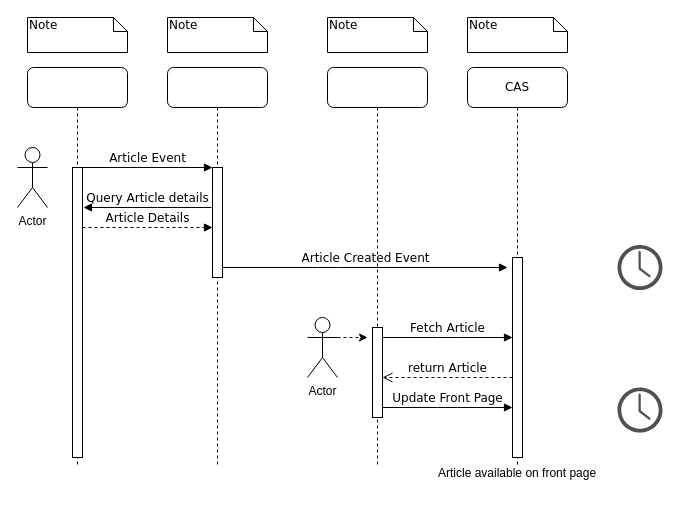
Some shapes in this 680 by 505 pixel diagram are drawn without their labels. The box of each missing label's shape, as (x1, y1, x2, y2) in pixels:
CSX: (166, 66, 268, 468)
Dr. Edition: (326, 66, 428, 468)
Drupal: (26, 66, 128, 468)
